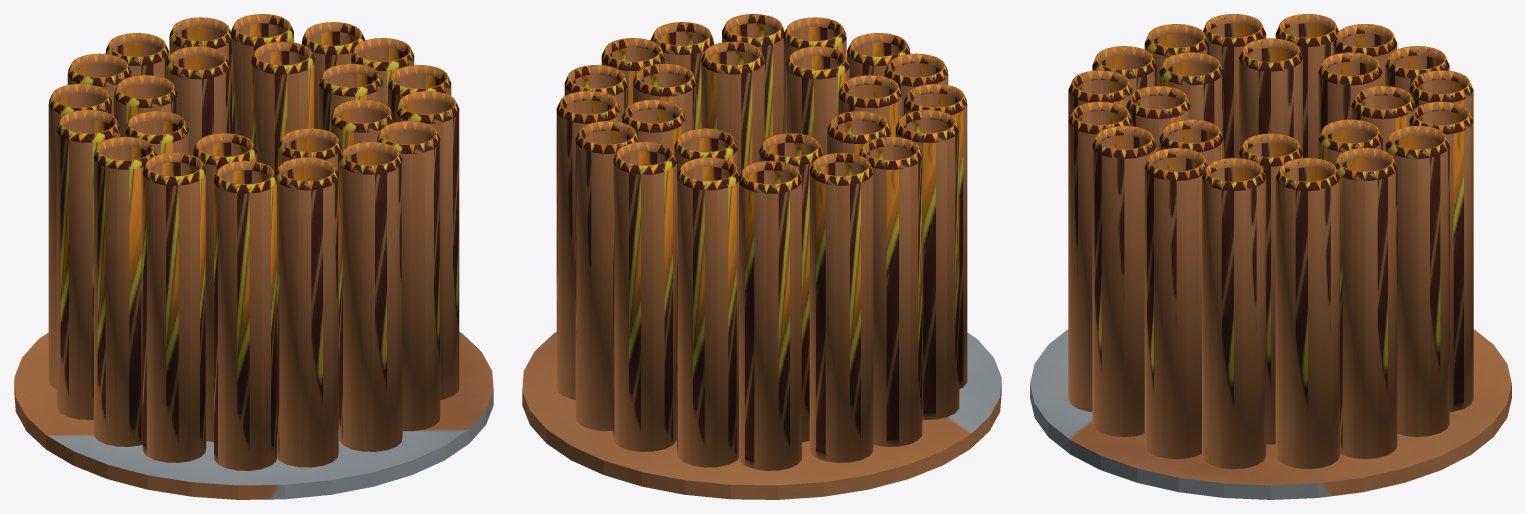
Rendered from OS Pepperbox Barrel.obj.
The picture shows the model from 3 angles, left to right: view 1: azimuth 30°, elevation 25°; view 2: azimuth 150°, elevation 25°; view 3: azimuth 270°, elevation 25°; orthographic projection.
Visible parts, largest first — view 1: Cylinder; view 2: Cylinder; view 3: Cylinder.
Boxes of the visible parts, x1,y1,x2,y2 form: Cylinder: [14, 14, 493, 499]; Cylinder: [522, 14, 1001, 499]; Cylinder: [1030, 14, 1511, 499].
Bounding box in the file's own units: 3 × 2.06 × 3.
